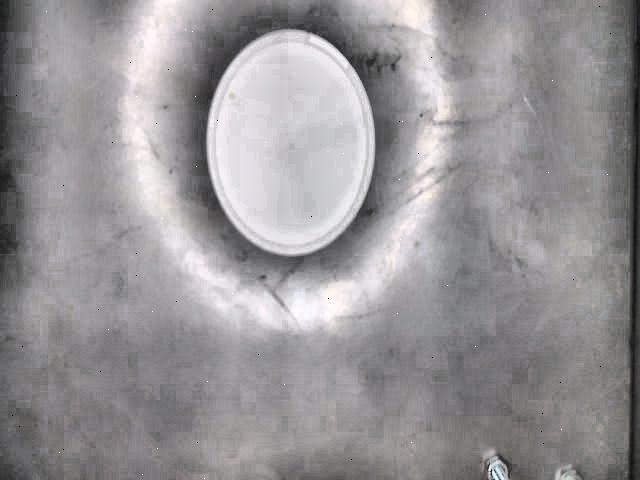Plastic: (201, 28, 375, 256)
